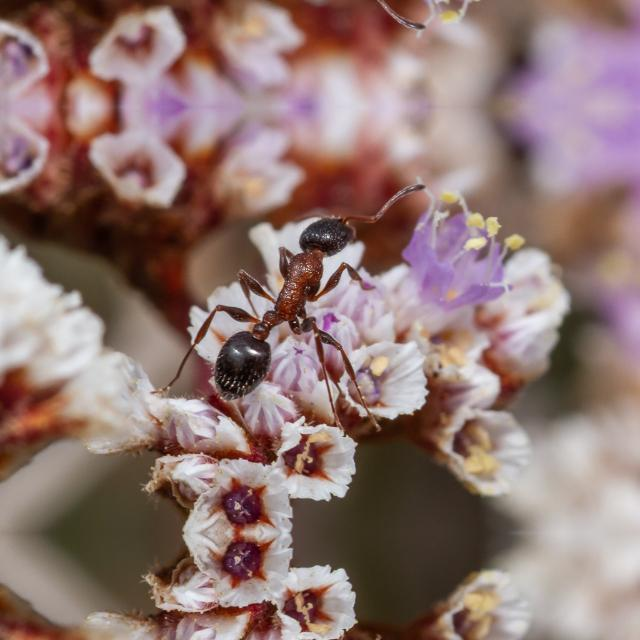Temnothorax: (165, 178, 412, 408)
